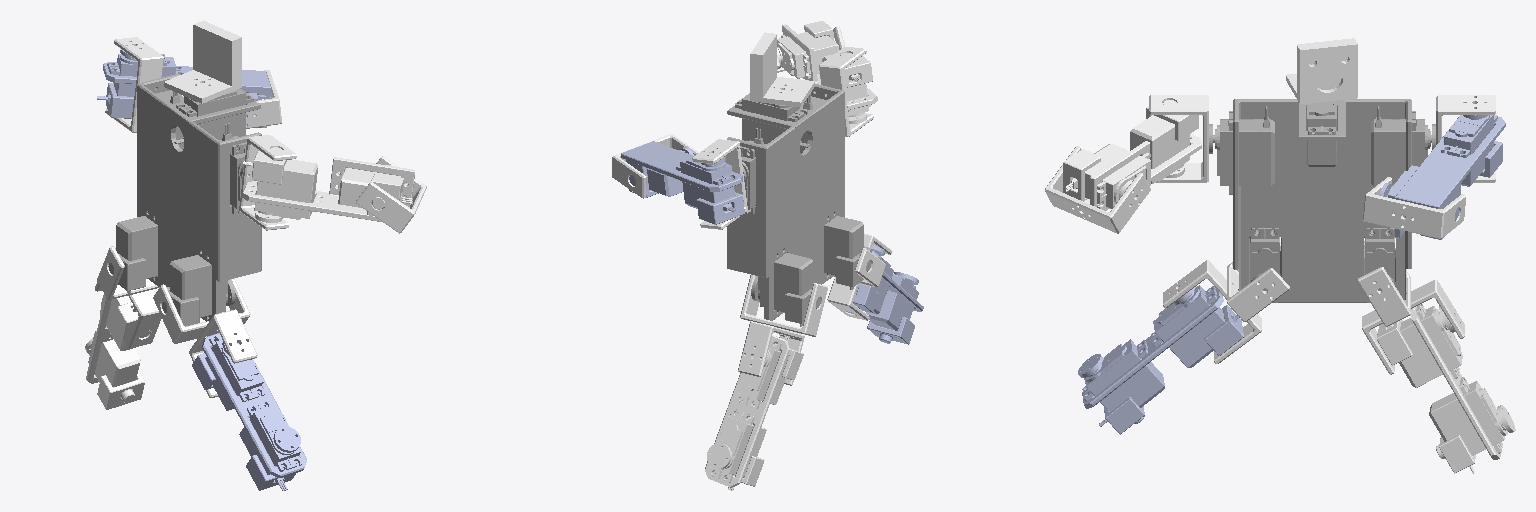
URDF robot description (dummy_robot):
<?xml version="1.0" encoding="utf-8"?>
<!-- This URDF was automatically created by SolidWorks to URDF Exporter! Originally created by [author] ([email redacted]) 
     Commit Version: 1.6.1-11-gaed57c3-dirty  Build Version: 1.6.9385.29558
     For more information, please see http://wiki.ros.org/sw_urdf_exporter -->
<robot
  name="dummy_robot">
  <link
    name="base_link">
    <inertial>
      <origin
        xyz="0.0053044 -5.785E-05 0.0039955"
        rpy="0 0 0" />
      <mass
        value="0.2602" />
      <inertia
        ixx="0.00032601"
        ixy="-3.848E-08"
        ixz="-7.6929E-06"
        iyy="0.00019551"
        iyz="-1.6221E-07"
        izz="0.00018087" />
    </inertial>
    <visual>
      <origin
        xyz="0 0 0"
        rpy="0 0 0" />
      <geometry>
        <mesh
          filename="package://dummy_robot/meshes/base_link.STL" />
      </geometry>
      <material
        name="">
        <color
          rgba="0.75294 0.75294 0.75294 1" />
      </material>
    </visual>
    <collision>
      <origin
        xyz="0 0 0"
        rpy="0 0 0" />
      <geometry>
        <mesh
          filename="package://dummy_robot/meshes/base_link.STL" />
      </geometry>
    </collision>
  </link>
  <link
    name="left_shoulder">
    <inertial>
      <origin
        xyz="8.02717027340027E-05 0.0139773890538527 0.000610849214569997"
        rpy="0 0 0" />
      <mass
        value="0.00970656797987933" />
      <inertia
        ixx="6.52473606592953E-06"
        ixy="-1.05363145903582E-08"
        ixz="-6.16393664536726E-07"
        iyy="5.41452809820977E-06"
        iyz="-8.01789332000635E-08"
        izz="1.915122200915E-06" />
    </inertial>
    <visual>
      <origin
        xyz="0 0 0"
        rpy="0 0 0" />
      <geometry>
        <mesh
          filename="package://dummy_robot/meshes/left_shoulder.STL" />
      </geometry>
      <material
        name="">
        <color
          rgba="1 1 1 1" />
      </material>
    </visual>
    <collision>
      <origin
        xyz="0 0 0"
        rpy="0 0 0" />
      <geometry>
        <mesh
          filename="package://dummy_robot/meshes/left_shoulder.STL" />
      </geometry>
    </collision>
  </link>
  <joint
    name="left_shoulder_joint"
    type="revolute">
    <origin
      xyz="0.016 0.0749 0.049968"
      rpy="0 0 0" />
    <parent
      link="base_link" />
    <child
      link="left_shoulder" />
    <axis
      xyz="0 -1 0" />
    <limit
      lower="0"
      upper="0"
      effort="0"
      velocity="0" />
  </joint>
  <link
    name="left_arm">
    <inertial>
      <origin
        xyz="0.0340743092630275 -0.0192083892573476 -0.0331995010498217"
        rpy="0 0 0" />
      <mass
        value="0.0906636812084869" />
      <inertia
        ixx="1.73146976715666E-05"
        ixy="6.78812285071822E-06"
        ixz="2.55514100387687E-06"
        iyy="2.82733581135196E-05"
        iyz="-1.84784026608633E-06"
        izz="3.16681842088577E-05" />
    </inertial>
    <visual>
      <origin
        xyz="0 0 0"
        rpy="0 0 0" />
      <geometry>
        <mesh
          filename="package://dummy_robot/meshes/left_arm.STL" />
      </geometry>
      <material
        name="">
        <color
          rgba="0.792156862745098 0.819607843137255 0.933333333333333 1" />
      </material>
    </visual>
    <collision>
      <origin
        xyz="0 0 0"
        rpy="0 0 0" />
      <geometry>
        <mesh
          filename="package://dummy_robot/meshes/left_arm.STL" />
      </geometry>
    </collision>
  </link>
  <joint
    name="left_arm_joint"
    type="revolute">
    <origin
      xyz="0.0032572 0.0275 0.024787"
      rpy="0 0 0" />
    <parent
      link="left_shoulder" />
    <child
      link="left_arm" />
    <axis
      xyz="-0.13029 0 -0.99148" />
    <limit
      lower="0"
      upper="0"
      effort="0"
      velocity="0" />
  </joint>
  <link
    name="left_hand">
    <inertial>
      <origin
        xyz="0.0219004827438896 0.0172569414258059 4.8689996595408E-05"
        rpy="0 0 0" />
      <mass
        value="0.00970656797987934" />
      <inertia
        ixx="4.82175837443691E-06"
        ixy="-1.3431515329532E-06"
        ixz="-9.25949257927465E-09"
        iyy="2.44944725476104E-06"
        iyz="2.59086970956647E-07"
        izz="6.58318073585634E-06" />
    </inertial>
    <visual>
      <origin
        xyz="0 0 0"
        rpy="0 0 0" />
      <geometry>
        <mesh
          filename="package://dummy_robot/meshes/left_hand.STL" />
      </geometry>
      <material
        name="">
        <color
          rgba="1 1 1 1" />
      </material>
    </visual>
    <collision>
      <origin
        xyz="0 0 0"
        rpy="0 0 0" />
      <geometry>
        <mesh
          filename="package://dummy_robot/meshes/left_hand.STL" />
      </geometry>
    </collision>
  </link>
  <joint
    name="left_hand_joint"
    type="revolute">
    <origin
      xyz="0.056618 -0.061357 -0.040119"
      rpy="0 0 0" />
    <parent
      link="left_arm" />
    <child
      link="left_hand" />
    <axis
      xyz="0.38857 0.92 -0.051063" />
    <limit
      lower="0"
      upper="0"
      effort="0"
      velocity="0" />
  </joint>
  <link
    name="right_shoulder">
    <inertial>
      <origin
        xyz="-7.65274493058632E-05 -0.0139773890538549 -0.000611329582723918"
        rpy="0 0 0" />
      <mass
        value="0.00970656797987938" />
      <inertia
        ixx="6.53211630820218E-06"
        ixy="-1.00448508385269E-08"
        ixz="-5.88104254871472E-07"
        iyy="5.41452809820979E-06"
        iyz="-8.02419854308107E-08"
        izz="1.90774195864238E-06" />
    </inertial>
    <visual>
      <origin
        xyz="0 0 0"
        rpy="0 0 0" />
      <geometry>
        <mesh
          filename="package://dummy_robot/meshes/right_shoulder.STL" />
      </geometry>
      <material
        name="">
        <color
          rgba="1 1 1 1" />
      </material>
    </visual>
    <collision>
      <origin
        xyz="0 0 0"
        rpy="0 0 0" />
      <geometry>
        <mesh
          filename="package://dummy_robot/meshes/right_shoulder.STL" />
      </geometry>
    </collision>
  </link>
  <joint
    name="right_shoulder_joint"
    type="revolute">
    <origin
      xyz="0.016 -0.0749 0.0499682605579134"
      rpy="0 0 0" />
    <parent
      link="base_link" />
    <child
      link="right_shoulder" />
    <axis
      xyz="0 1 0" />
    <limit
      lower="0"
      upper="0"
      effort="0"
      velocity="0" />
  </joint>
  <link
    name="right_arm">
    <inertial>
      <origin
        xyz="0.0380365314008572 -0.024747415925155 0.0239377383403199"
        rpy="0 0 0" />
      <mass
        value="0.0906636814036702" />
      <inertia
        ixx="1.99532631240314E-05"
        ixy="8.5762998316497E-06"
        ixz="3.93868893673201E-07"
        iyy="2.5126812132576E-05"
        iyz="-9.71619705193105E-07"
        izz="3.21761648505198E-05" />
    </inertial>
    <visual>
      <origin
        xyz="0 0 0"
        rpy="0 0 0" />
      <geometry>
        <mesh
          filename="package://dummy_robot/meshes/right_arm.STL" />
      </geometry>
      <material
        name="">
        <color
          rgba="1 1 1 1" />
      </material>
    </visual>
    <collision>
      <origin
        xyz="0 0 0"
        rpy="0 0 0" />
      <geometry>
        <mesh
          filename="package://dummy_robot/meshes/right_arm.STL" />
      </geometry>
    </collision>
  </link>
  <joint
    name="right_arm_joint"
    type="revolute">
    <origin
      xyz="-0.00310531319967072 -0.0274999999999878 -0.024806390909034"
      rpy="0 0 0" />
    <parent
      link="right_shoulder" />
    <child
      link="right_arm" />
    <axis
      xyz="0.124212527985579 0 0.992255636361634" />
    <limit
      lower="0"
      upper="0"
      effort="0"
      velocity="0" />
  </joint>
  <link
    name="right_hand">
    <inertial>
      <origin
        xyz="-0.00686285977349416 -0.0264507177404785 -0.00554041778663797"
        rpy="0 0 0" />
      <mass
        value="0.00970656797987935" />
      <inertia
        ixx="4.33865404707442E-06"
        ixy="-1.89452975250622E-06"
        ixz="6.10117946446929E-07"
        iyy="3.29400646261338E-06"
        iyz="-1.06550532534926E-07"
        izz="6.2217258553665E-06" />
    </inertial>
    <visual>
      <origin
        xyz="0 0 0"
        rpy="0 0 0" />
      <geometry>
        <mesh
          filename="package://dummy_robot/meshes/right_hand.STL" />
      </geometry>
      <material
        name="">
        <color
          rgba="1 1 1 1" />
      </material>
    </visual>
    <collision>
      <origin
        xyz="0 0 0"
        rpy="0 0 0" />
      <geometry>
        <mesh
          filename="package://dummy_robot/meshes/right_hand.STL" />
      </geometry>
    </collision>
  </link>
  <joint
    name="right_hand_joint"
    type="revolute">
    <origin
      xyz="0.08628 -0.025652 0.021852"
      rpy="0 0 0" />
    <parent
      link="right_arm" />
    <child
      link="right_hand" />
    <axis
      xyz="-0.62604 -0.77585 0.078368" />
    <limit
      lower="0"
      upper="0"
      effort="0"
      velocity="0" />
  </joint>
  <link
    name="left_leg">
    <inertial>
      <origin
        xyz="-0.0231919495539664 0.0129280743272203 -0.0225601371730573"
        rpy="0 0 0" />
      <mass
        value="0.0194131359597587" />
      <inertia
        ixx="8.43985826684452E-06"
        ixy="3.93735192824584E-08"
        ixz="-7.0635693764272E-08"
        iyy="8.93745083192274E-06"
        iyz="-9.73544267452637E-07"
        izz="1.03314636313413E-05" />
    </inertial>
    <visual>
      <origin
        xyz="0 0 0"
        rpy="0 0 0" />
      <geometry>
        <mesh
          filename="package://dummy_robot/meshes/left_leg.STL" />
      </geometry>
      <material
        name="">
        <color
          rgba="1 1 1 1" />
      </material>
    </visual>
    <collision>
      <origin
        xyz="0 0 0"
        rpy="0 0 0" />
      <geometry>
        <mesh
          filename="package://dummy_robot/meshes/left_leg.STL" />
      </geometry>
    </collision>
  </link>
  <joint
    name="left_leg_joint"
    type="revolute">
    <origin
      xyz="0.0149 0.0385 -0.060532"
      rpy="0 0 0" />
    <parent
      link="base_link" />
    <child
      link="left_leg" />
    <axis
      xyz="-1 0 0" />
    <limit
      lower="0"
      upper="0"
      effort="0"
      velocity="0" />
  </joint>
  <link
    name="left_limb">
    <inertial>
      <origin
        xyz="0.00490533384482794 -0.00345726775705135 -0.0476727026077809"
        rpy="0 0 0" />
      <mass
        value="0.0832912988386294" />
      <inertia
        ixx="2.63852190204483E-05"
        ixy="-8.72416475871173E-07"
        ixz="1.5648438005591E-06"
        iyy="2.02891416156911E-05"
        iyz="4.61301844352046E-06"
        izz="1.4587253143042E-05" />
    </inertial>
    <visual>
      <origin
        xyz="0 0 0"
        rpy="0 0 0" />
      <geometry>
        <mesh
          filename="package://dummy_robot/meshes/left_limb.STL" />
      </geometry>
      <material
        name="">
        <color
          rgba="1 1 1 1" />
      </material>
    </visual>
    <collision>
      <origin
        xyz="0 0 0"
        rpy="0 0 0" />
      <geometry>
        <mesh
          filename="package://dummy_robot/meshes/left_limb.STL" />
      </geometry>
    </collision>
  </link>
  <joint
    name="left_limb_joint"
    type="revolute">
    <origin
      xyz="-0.0235 0.047155 -0.033248"
      rpy="0 0 0" />
    <parent
      link="left_leg" />
    <child
      link="left_limb" />
    <axis
      xyz="0 -0.87347 -0.48688" />
    <limit
      lower="0"
      upper="0"
      effort="0"
      velocity="0" />
  </joint>
  <link
    name="right_leg">
    <inertial>
      <origin
        xyz="-0.0231919495539715 -0.0202630719951359 -0.0162942569145465"
        rpy="0 0 0" />
      <mass
        value="0.0194131359597587" />
      <inertia
        ixx="8.43985826684455E-06"
        ixy="-6.24153634222821E-08"
        ixz="-5.14198178051036E-08"
        iyy="9.78372772207625E-06"
        iyz="1.18799186975678E-06"
        izz="9.48518674118785E-06" />
    </inertial>
    <visual>
      <origin
        xyz="0 0 0"
        rpy="0 0 0" />
      <geometry>
        <mesh
          filename="package://dummy_robot/meshes/right_leg.STL" />
      </geometry>
      <material
        name="">
        <color
          rgba="1 1 1 1" />
      </material>
    </visual>
    <collision>
      <origin
        xyz="0 0 0"
        rpy="0 0 0" />
      <geometry>
        <mesh
          filename="package://dummy_robot/meshes/right_leg.STL" />
      </geometry>
    </collision>
  </link>
  <joint
    name="right_leg_joint"
    type="revolute">
    <origin
      xyz="0.0149 -0.0385 -0.060532"
      rpy="0 0 0" />
    <parent
      link="base_link" />
    <child
      link="right_leg" />
    <axis
      xyz="-1 0 0" />
    <limit
      lower="0"
      upper="0"
      effort="0"
      velocity="0" />
  </joint>
  <link
    name="right_limb">
    <inertial>
      <origin
        xyz="0.00315412166496659 -0.0142964847797842 -0.0457644597918268"
        rpy="0 0 0" />
      <mass
        value="0.0832912986528662" />
      <inertia
        ixx="2.65142350343061E-05"
        ixy="8.93138844112121E-07"
        ixz="7.35903496121207E-07"
        iyy="1.63244370072913E-05"
        iyz="-5.38615761570608E-06"
        izz="1.84229416247173E-05" />
    </inertial>
    <visual>
      <origin
        xyz="0 0 0"
        rpy="0 0 0" />
      <geometry>
        <mesh
          filename="package://dummy_robot/meshes/right_limb.STL" />
      </geometry>
      <material
        name="">
        <color
          rgba="0.792156862745098 0.819607843137255 0.933333333333333 1" />
      </material>
    </visual>
    <collision>
      <origin
        xyz="0 0 0"
        rpy="0 0 0" />
      <geometry>
        <mesh
          filename="package://dummy_robot/meshes/right_limb.STL" />
      </geometry>
    </collision>
  </link>
  <joint
    name="right_limb_point"
    type="revolute">
    <origin
      xyz="-0.0235 -0.056031 -0.013769"
      rpy="0 0 0" />
    <parent
      link="right_leg" />
    <child
      link="right_limb" />
    <axis
      xyz="0 0.63585 -0.77182" />
    <limit
      lower="0"
      upper="0"
      effort="0"
      velocity="0" />
  </joint>
  <link
    name="head">
    <inertial>
      <origin
        xyz="0 0 0"
        rpy="0 0 0" />
      <mass
        value="0" />
      <inertia
        ixx="0"
        ixy="0"
        ixz="0"
        iyy="0"
        iyz="0"
        izz="0" />
    </inertial>
    <visual>
      <origin
        xyz="0 0 0"
        rpy="0 0 0" />
      <geometry>
        <mesh
          filename="package://dummy_robot/meshes/head.STL" />
      </geometry>
      <material
        name="">
        <color
          rgba="1 1 1 1" />
      </material>
    </visual>
    <collision>
      <origin
        xyz="0 0 0"
        rpy="0 0 0" />
      <geometry>
        <mesh
          filename="package://dummy_robot/meshes/head.STL" />
      </geometry>
    </collision>
  </link>
  <joint
    name="head_joint"
    type="revolute">
    <origin
      xyz="0.01675 -0.0005 0.087118"
      rpy="0 0 0" />
    <parent
      link="base_link" />
    <child
      link="head" />
    <axis
      xyz="0 0 -1" />
    <limit
      lower="0"
      upper="0"
      effort="0"
      velocity="0" />
  </joint>
</robot>

--- Facts derived from the render (not from the file) ---
Views: 3 orthographic renders of the robot side by side, from view 1: azimuth 30°, elevation 25°; view 2: azimuth 150°, elevation 25°; view 3: azimuth 270°, elevation 25°.
Robot: dummy_robot — 12 links, 11 joints (11 revolute); root link base_link; default pose: every joint at zero.
Links seen in each view (by area): view 1: base_link, right_arm, right_limb, left_limb, head, right_leg, left_arm, left_leg, right_hand, right_shoulder, left_shoulder, left_hand; view 2: base_link, left_limb, left_arm, right_arm, right_limb, left_leg, head, right_leg, right_shoulder, left_shoulder, left_hand; view 3: base_link, right_limb, left_limb, right_arm, left_arm, head, right_leg, left_leg, left_hand, right_hand, right_shoulder, left_shoulder.
Link boxes in pixels (bbox=[...]): base_link: bbox=[108, 74, 261, 326]; right_arm: bbox=[242, 147, 414, 222]; right_limb: bbox=[192, 333, 306, 490]; left_limb: bbox=[85, 294, 150, 409]; head: bbox=[164, 21, 241, 103]; right_leg: bbox=[153, 278, 257, 397]; left_arm: bbox=[97, 49, 270, 127]; left_leg: bbox=[95, 246, 161, 348]; right_hand: bbox=[356, 156, 426, 233]; right_shoulder: bbox=[239, 135, 296, 230]; left_shoulder: bbox=[105, 37, 163, 132]; left_hand: bbox=[246, 70, 281, 128]; base_link: bbox=[727, 84, 871, 326]; left_limb: bbox=[705, 335, 803, 490]; left_arm: bbox=[621, 141, 744, 224]; right_arm: bbox=[777, 21, 877, 123]; right_limb: bbox=[846, 245, 923, 344]; left_leg: bbox=[738, 275, 827, 385]; head: bbox=[750, 32, 814, 106]; right_leg: bbox=[827, 233, 892, 320]; right_shoulder: bbox=[819, 47, 873, 136]; left_shoulder: bbox=[692, 139, 747, 229]; left_hand: bbox=[612, 134, 698, 198]; base_link: bbox=[1209, 99, 1435, 302]; right_limb: bbox=[1078, 285, 1243, 434]; left_limb: bbox=[1377, 304, 1515, 473]; right_arm: bbox=[1063, 100, 1201, 210]; left_arm: bbox=[1379, 115, 1505, 239]; head: bbox=[1286, 38, 1357, 103]; right_leg: bbox=[1163, 242, 1289, 363]; left_leg: bbox=[1358, 241, 1464, 374]; left_hand: bbox=[1363, 177, 1465, 238]; right_hand: bbox=[1045, 146, 1150, 233]; right_shoulder: bbox=[1149, 95, 1208, 182]; left_shoulder: bbox=[1436, 95, 1495, 182].
Size in the robot's own frame: 0.1591 by 0.316 by 0.3301 metres.
Meshes: 12 distinct files referenced, 12 mesh visuals loaded (12 binary STL).